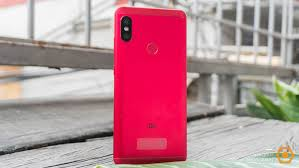bphone: (111, 5, 190, 165)
